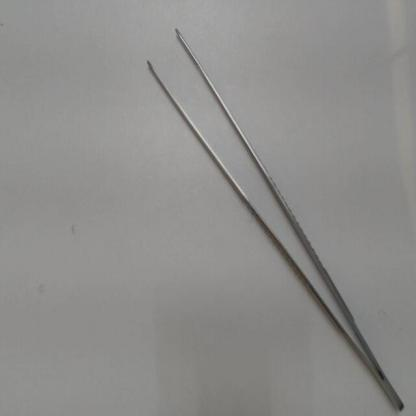DeBakey Dissector: (132, 5, 410, 413)
